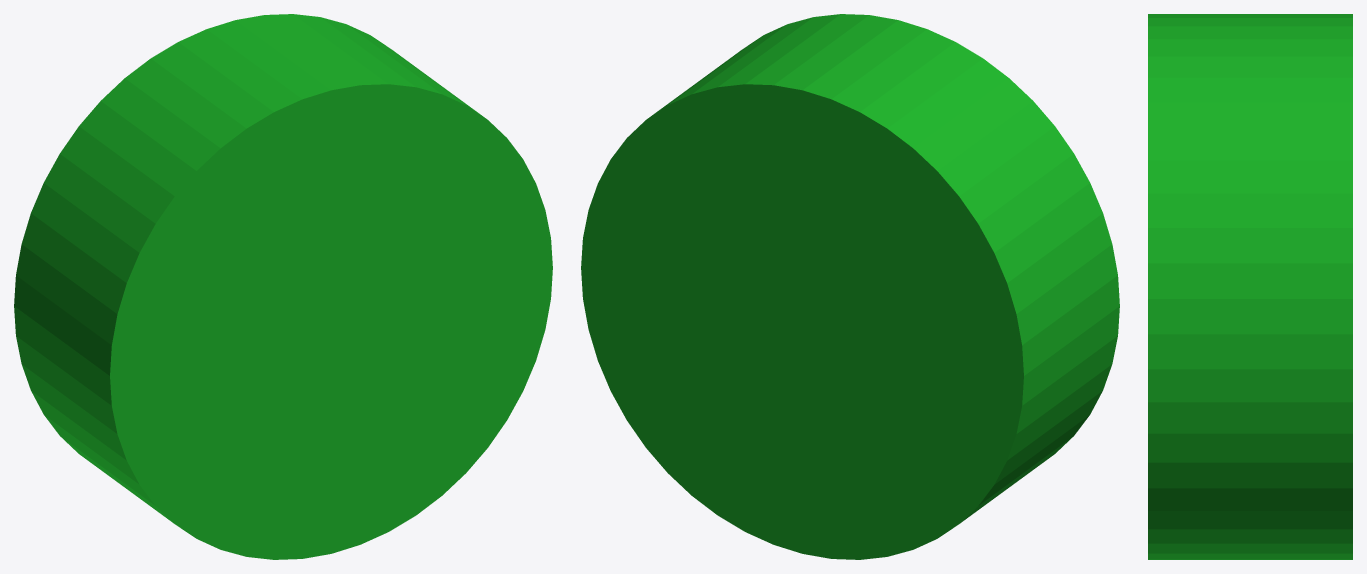
The model's file is filter_indicator_ok.glb.
The picture shows the model from 3 angles, left to right: view 1: azimuth 30°, elevation 25°; view 2: azimuth 150°, elevation 25°; view 3: azimuth 270°, elevation 25°; orthographic projection. The views are drawn at different scales.
Parts seen in each view (by area): view 1: filter_indicator_ok; view 2: filter_indicator_ok; view 3: filter_indicator_ok.
Boxes of the visible parts, box(x1,y1,x2,y2) form: filter_indicator_ok: box(14, 14, 552, 559); filter_indicator_ok: box(581, 14, 1119, 559); filter_indicator_ok: box(1148, 14, 1352, 559).
Size of the model in its own units: 0.04 by 0.04 by 0.015.
